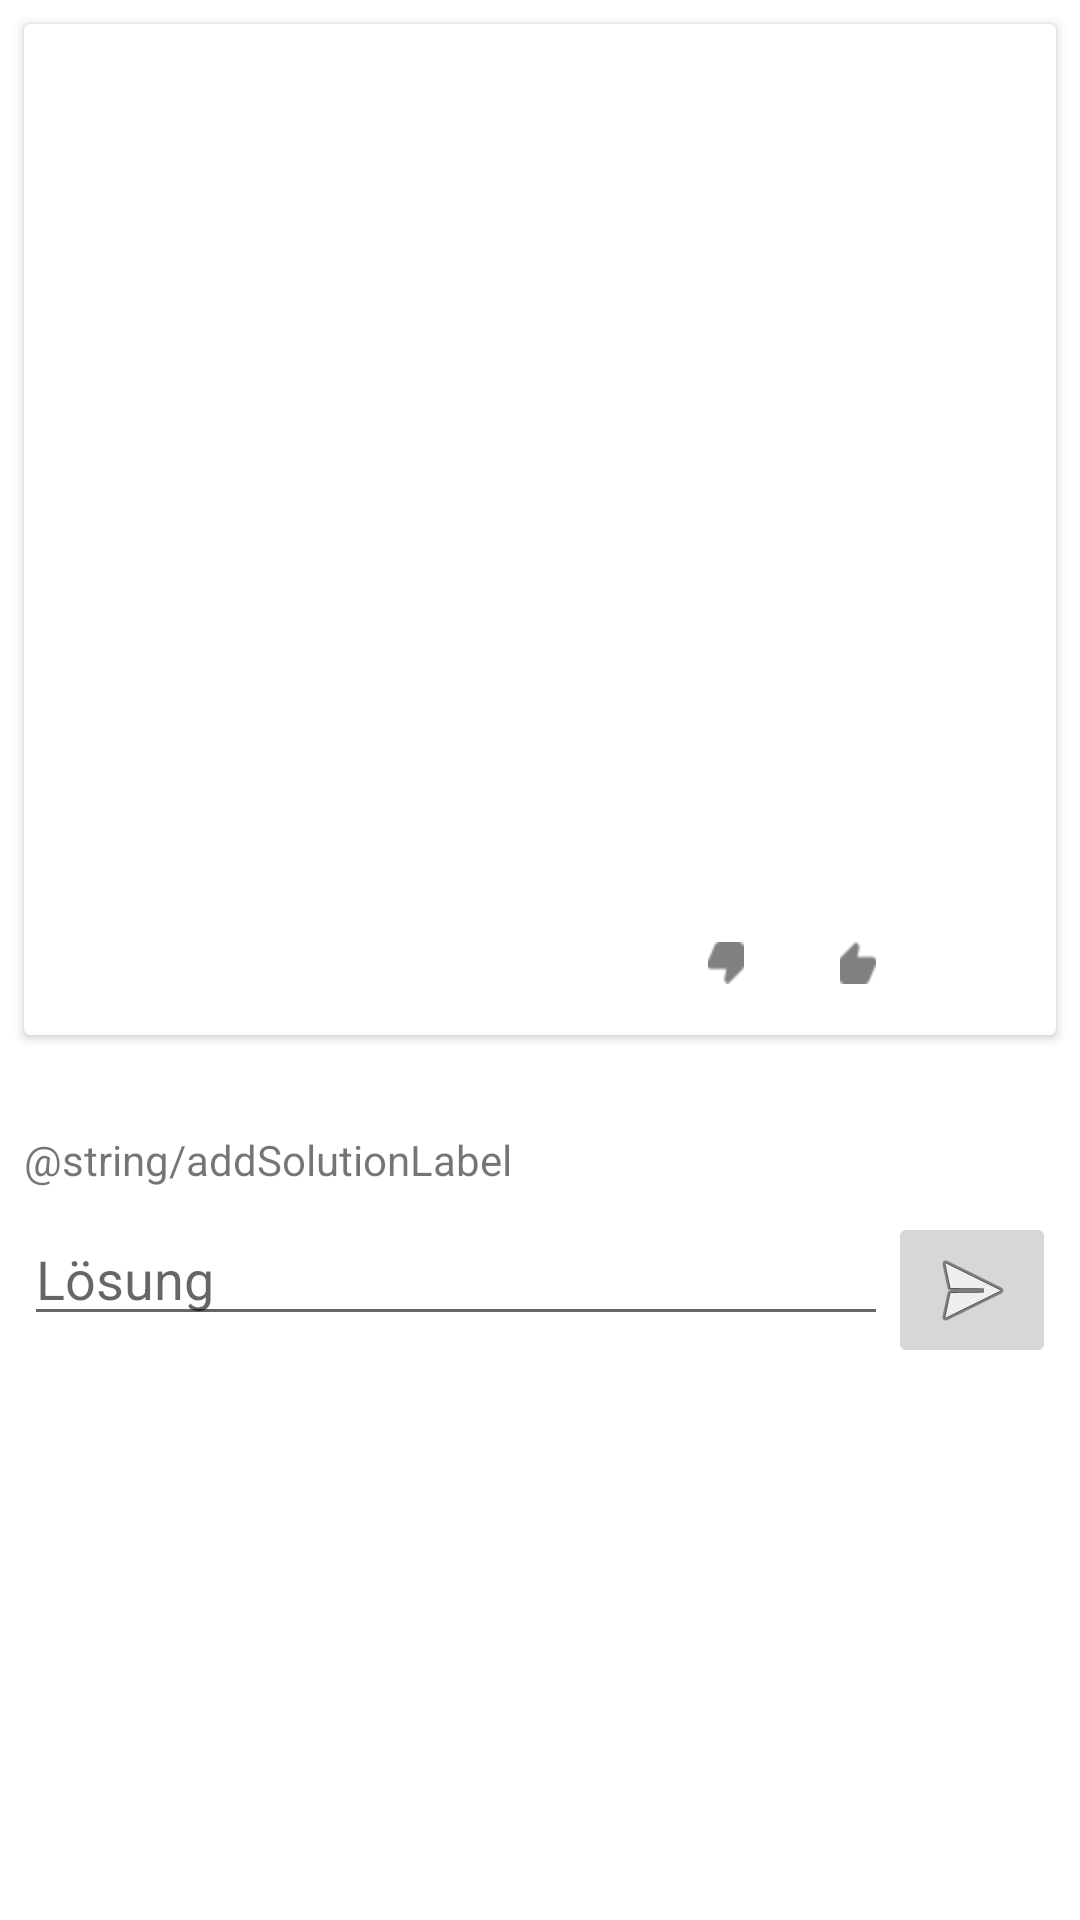

Locate icon controls on the screen. Image size 1080 × 1920, boxes as rect(x1, y1, x2, y2).
Senden: rect(900, 1230, 1044, 1350)
